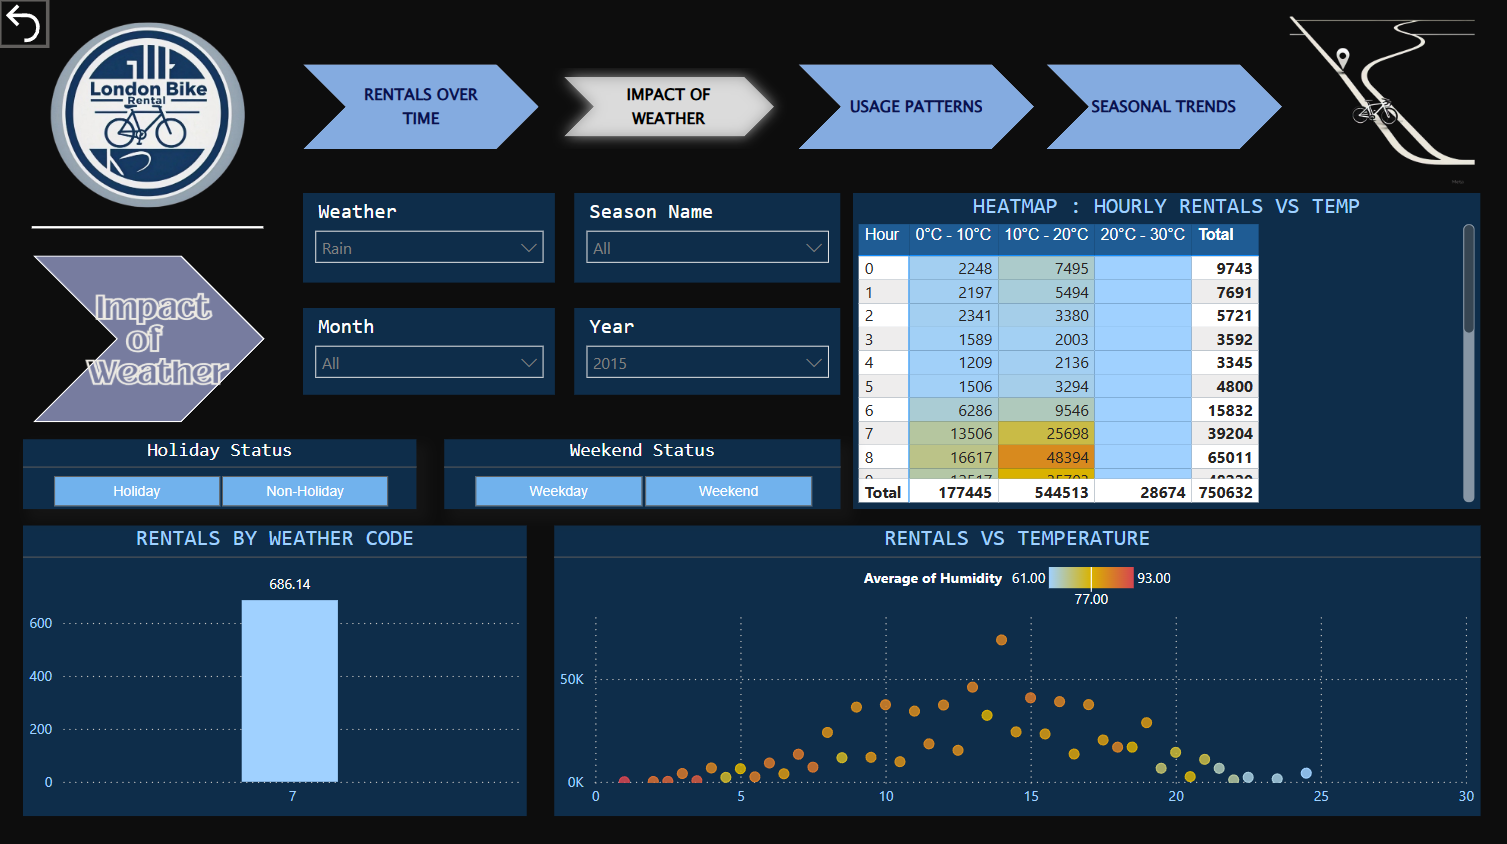

Layout of this report page (visuals, bound fields, positions):
{"tool":"powerbi","page":{"name":"IMPACT OF WEATHER","canvas":[1280,720],"ordinal":1},"visuals":[{"type":"image","box":[29.1,15.6,196.4,166.3],"z":0},{"type":"shape","box":[29.1,111.2,196.4,166.3],"z":1000},{"type":"shape","box":[30.1,218.2,196.4,141.3],"z":2000},{"type":"image","box":[1068,0,212,166.3],"z":3000},{"type":"actionButton","box":[0,0,43.6,42.6],"z":4000},{"type":"clusteredColumnChart","title":"RENTALS BY WEATHER CODE","fields":{"Y":["Avg(london_merged.cnt)"],"Category":["london_merged.weather_code"]},"box":[21.6,447.9,427.5,246.2],"z":5000},{"type":"scatterChart","title":"RENTALS VS TEMPERATURE","fields":{"X":["london_merged.t1"],"Y":["Sum(london_merged.cnt)"]},"box":[471.9,447.9,785.3,246.2],"z":6000},{"type":"pivotTable","title":"HEATMAP : HOURLY RENTALS VS TEMP","fields":{"Rows":["london_merged.Hour"],"Columns":["london_merged.Temperature Range"],"Values":["Sum(london_merged.cnt)"]},"box":[725.3,165.7,531.9,267.8],"z":7000},{"type":"slicer","title":"Holiday Status","fields":{"Values":["london_merged.Holiday Status"]},"box":[21.6,374.6,333.8,58.8],"z":8000},{"type":"slicer","title":"Weekend Status","fields":{"Values":["london_merged.Weekend Status"]},"box":[378.2,374.6,336.2,58.8],"z":9000},{"type":"slicer","fields":{"Values":["london_merged.Weather Description"]},"box":[258.2,165.7,213.7,75.6],"z":10000},{"type":"slicer","fields":{"Values":["london_merged.Season Name"]},"box":[488.7,165.7,225.7,75.6],"z":11000},{"type":"slicer","fields":{"Values":["london_merged.timestamp.Variation.Date Hierarchy.Year"]},"box":[488.7,263,225.7,73.2],"z":12000},{"type":"image","box":[0,203.5,280.2,217.4],"z":13000},{"type":"slicer","fields":{"Values":["london_merged.timestamp.Variation.Date Hierarchy.Month"]},"box":[258.1,262.8,214,73.3],"z":14000},{"type":"pageNavigator","title":"RENTALS OVER TIME","box":[258.1,55.8,831.4,72.1],"z":14001}]}

Visuals, with their boxes in screenshot pixels (x1, y1, x2, y2), scaled from the page's 1280x720 canvas onto the 1507x844 screenshot:
image: <region>34, 18, 265, 213</region>
shape: <region>34, 130, 265, 325</region>
shape: <region>35, 256, 267, 421</region>
image: <region>1257, 0, 1506, 195</region>
actionButton: <region>0, 0, 51, 50</region>
"RENTALS BY WEATHER CODE" clusteredColumnChart: <region>25, 525, 529, 814</region>
"RENTALS VS TEMPERATURE" scatterChart: <region>556, 525, 1480, 814</region>
"HEATMAP : HOURLY RENTALS VS TEMP" pivotTable: <region>854, 194, 1480, 508</region>
"Holiday Status" slicer: <region>25, 439, 418, 508</region>
"Weekend Status" slicer: <region>445, 439, 841, 508</region>
slicer - london_merged.Weather Description: <region>304, 194, 556, 283</region>
slicer - london_merged.Season Name: <region>575, 194, 841, 283</region>
slicer - london_merged.timestamp.Variation.Date Hierarchy.Year: <region>575, 308, 841, 394</region>
image: <region>0, 239, 330, 493</region>
slicer - london_merged.timestamp.Variation.Date Hierarchy.Month: <region>304, 308, 556, 394</region>
"RENTALS OVER TIME" pageNavigator: <region>304, 65, 1283, 150</region>
